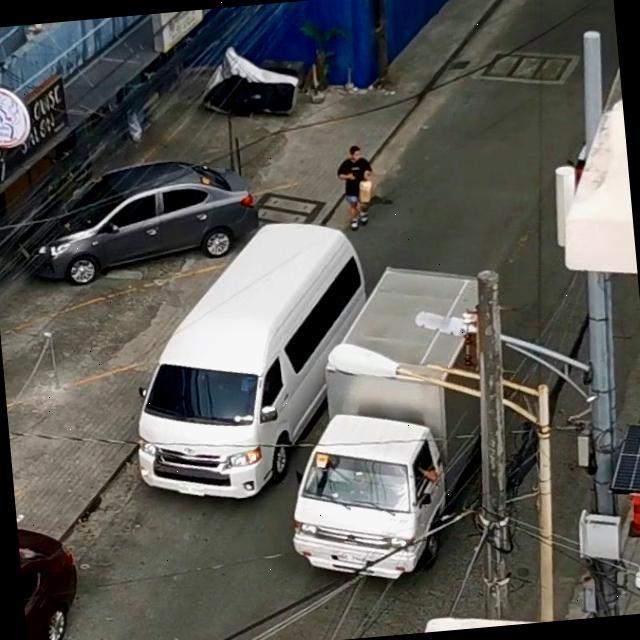Truck: (265, 264, 550, 590)
